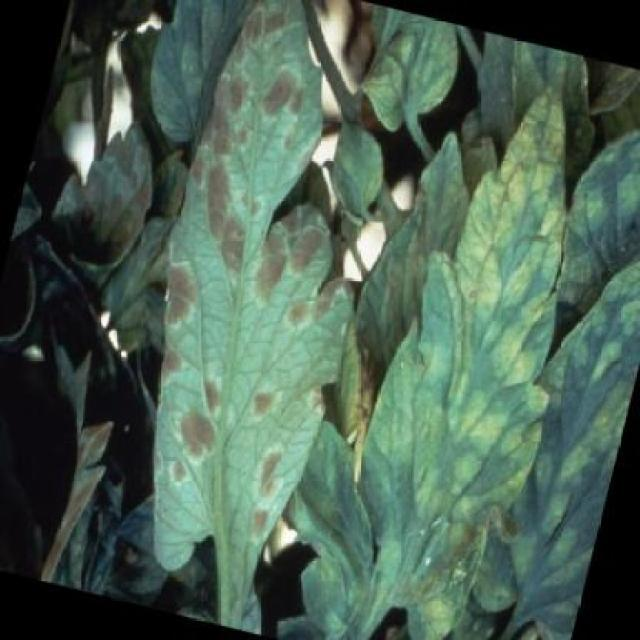Leaf Mold: (77, 0, 428, 622), (324, 54, 633, 638), (464, 202, 639, 640), (338, 2, 468, 146)
